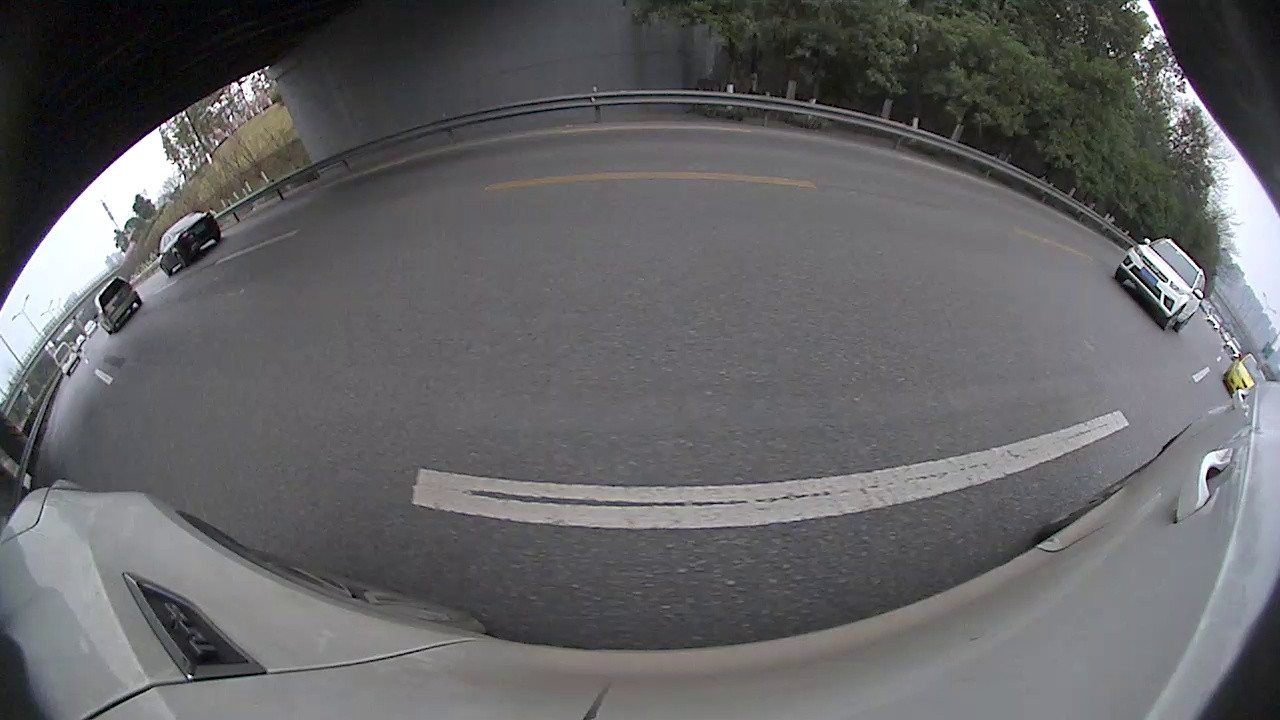car: (1006, 229, 1278, 446), (592, 116, 791, 250), (305, 145, 523, 267), (903, 182, 984, 234), (533, 158, 590, 198), (797, 168, 837, 198)
front: (1033, 267, 1091, 333), (509, 186, 522, 220)
rear: (433, 203, 461, 251)
